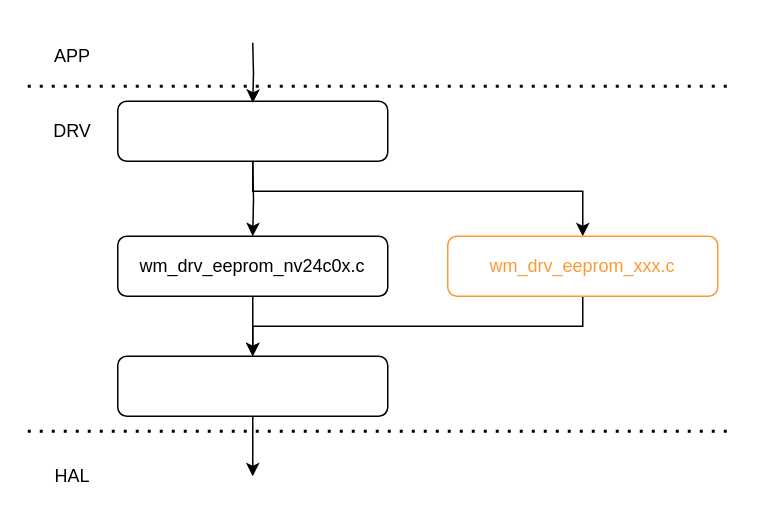
Some shapes in this 761 by 531 pixel diagram are drawn without their labels. Here are the shapes that lost their labels. From the top down, the centre of each, then its label:
the point at 252,130: wm_drv_eeprom
the point at 252,385: wm_drv_i2c
